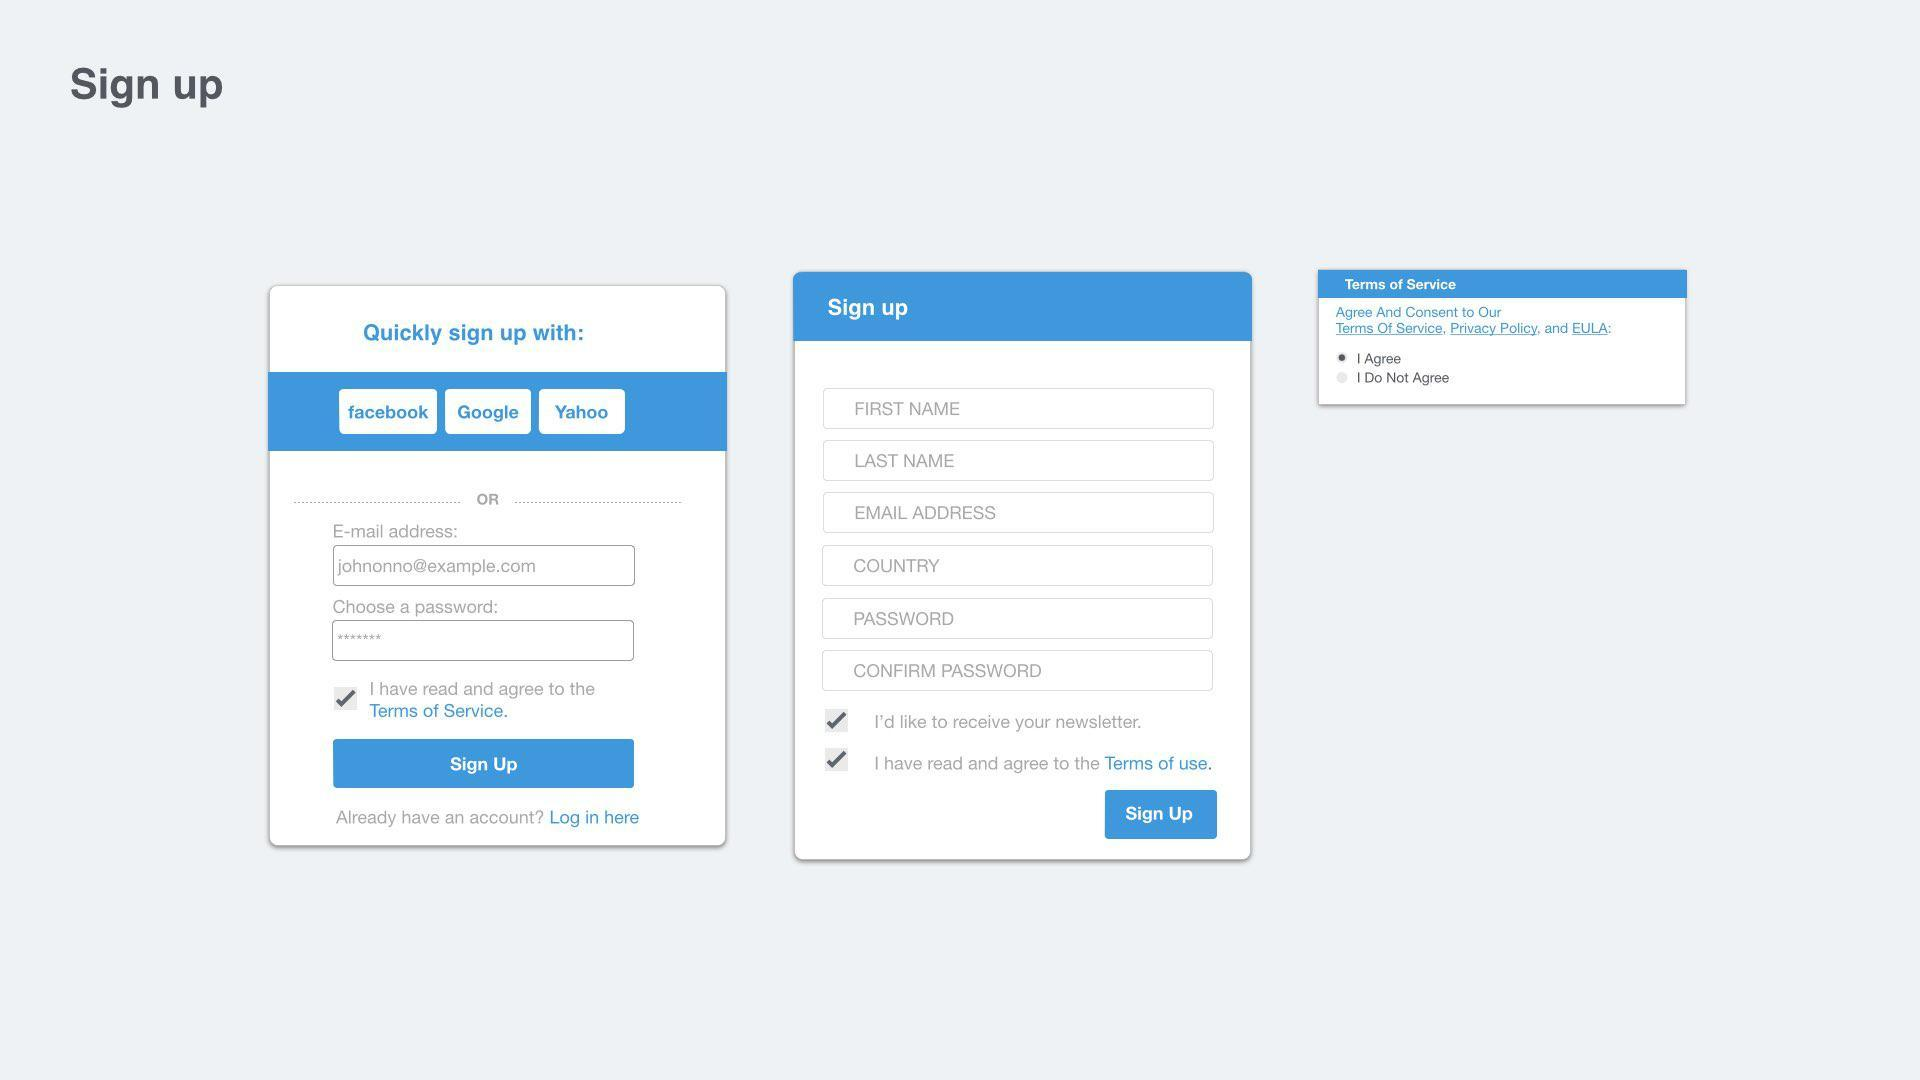button: (334, 738, 634, 789), (1106, 791, 1218, 840), (340, 392, 439, 433), (541, 390, 626, 435), (446, 392, 531, 434)
checkbox: (825, 748, 851, 771), (827, 709, 851, 733), (335, 688, 359, 712)
input: (822, 599, 1215, 641), (823, 651, 1215, 692), (825, 440, 1215, 481), (825, 495, 1216, 533), (825, 390, 1215, 429), (824, 547, 1213, 585), (334, 621, 636, 662), (335, 546, 636, 587)
label: (367, 673, 603, 727), (61, 61, 235, 123), (868, 752, 1216, 782), (873, 703, 1138, 740), (808, 287, 924, 332), (322, 593, 505, 620), (318, 518, 465, 545), (1338, 272, 1472, 295), (1353, 371, 1451, 386), (1360, 351, 1407, 368)
radio: (1337, 352, 1350, 365), (1337, 372, 1350, 385)
